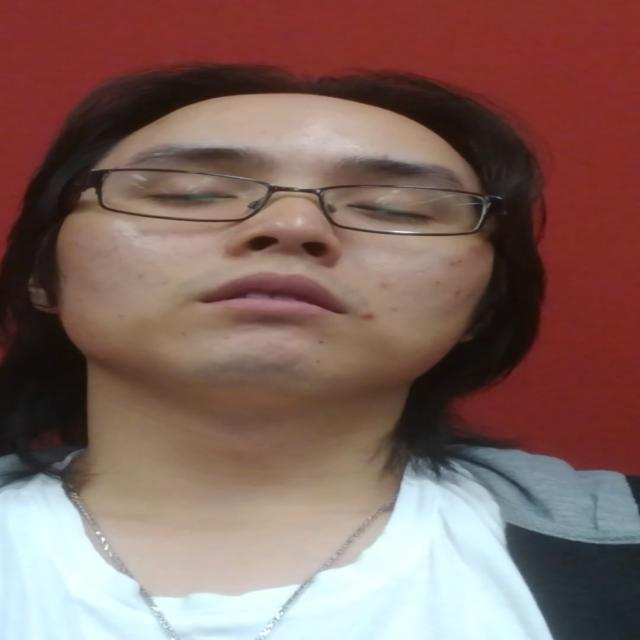Eyeclosed: (346, 194, 439, 233), (145, 183, 241, 211)
